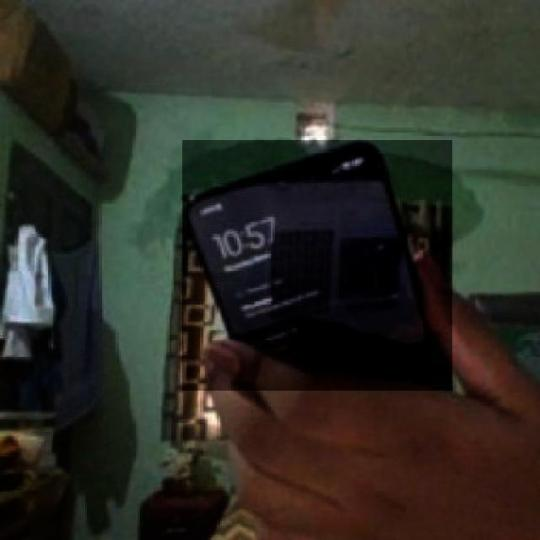phone: (176, 142, 447, 394)
